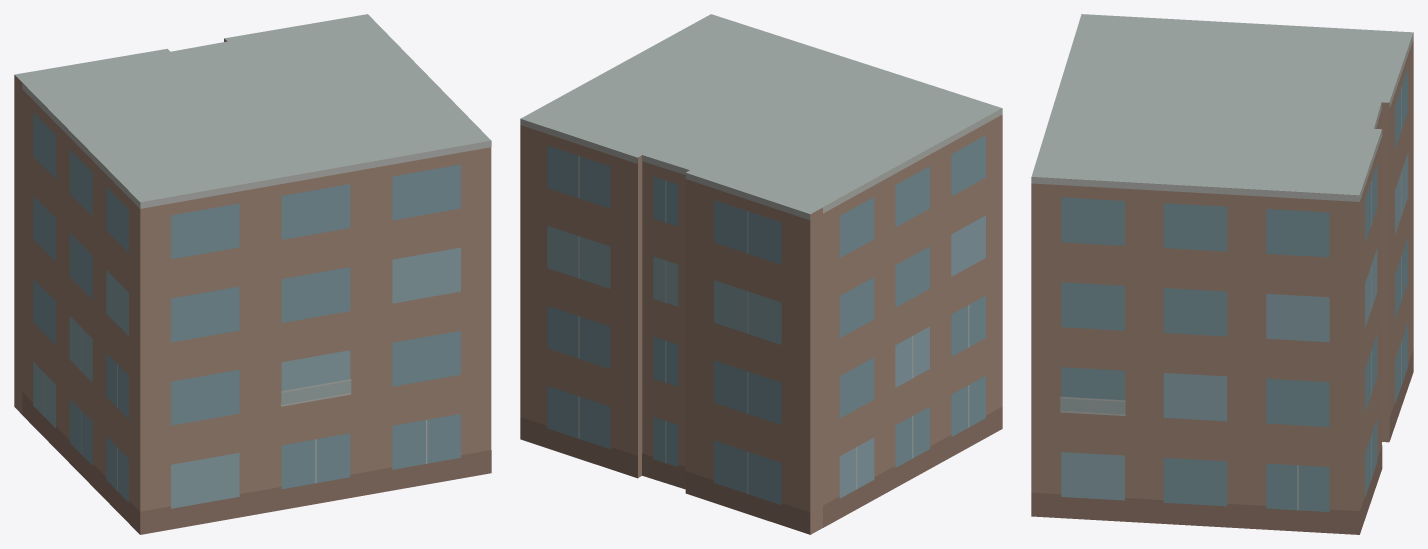
The model's file is survey-upis-32747848.glb.
3 renders of one model, left to right at view 1: azimuth 30°, elevation 25°; view 2: azimuth 150°, elevation 25°; view 3: azimuth 270°, elevation 25°, orthographic. The views are drawn at different scales.
Parts seen in each view (by area): view 1: survey-upis-32747848.tmp; view 2: survey-upis-32747848.tmp; view 3: survey-upis-32747848.tmp.
Part boxes in pixels (x1=…): survey-upis-32747848.tmp: x1=14, y1=14, x2=491, y2=534; survey-upis-32747848.tmp: x1=520, y1=14, x2=1002, y2=534; survey-upis-32747848.tmp: x1=1031, y1=14, x2=1413, y2=534.
Size of the model in its own units: 14.32 by 12.5 by 12.76.
